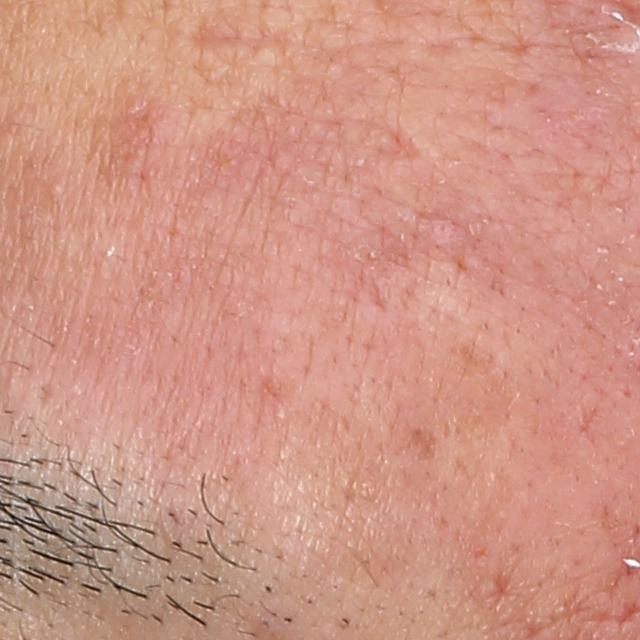comedo: (46, 182, 67, 199)
